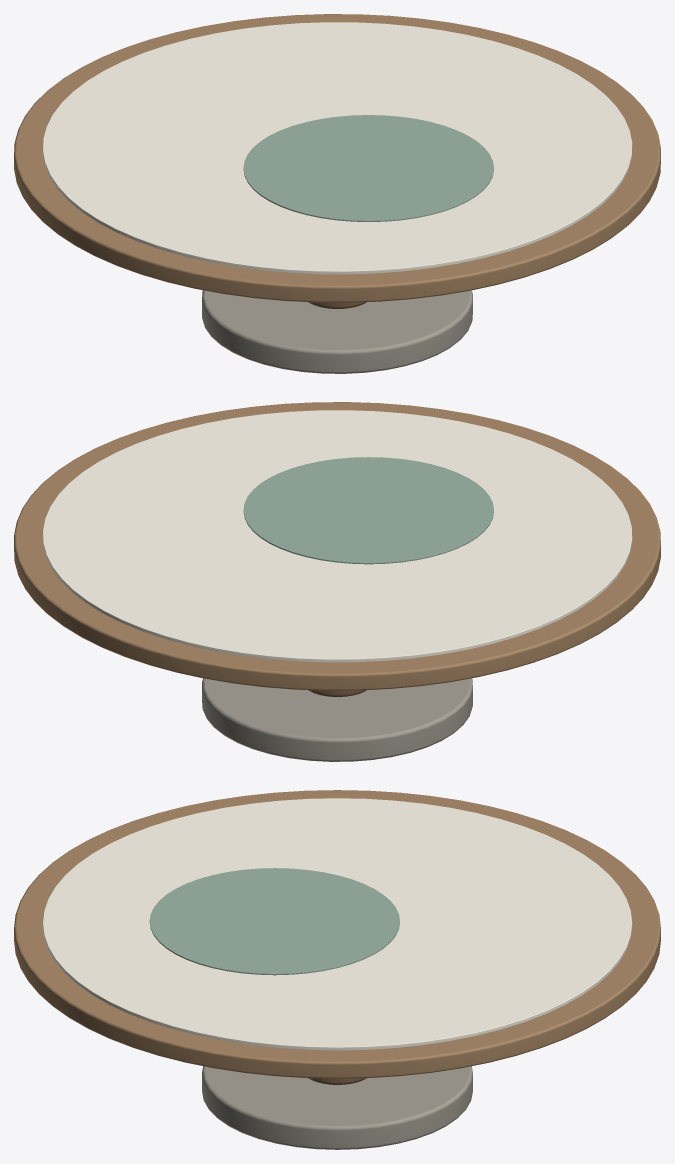
Rendered from meeting_table.glb.
3 views of the same model, one above another, from view 1: azimuth 30°, elevation 25°; view 2: azimuth 150°, elevation 25°; view 3: azimuth 270°, elevation 25° (orthographic).
Visible parts, largest first — view 1: Inset top surface, Rounded oak tabletop, Sage desk pad, Pedestal base; view 2: Inset top surface, Rounded oak tabletop, Sage desk pad, Pedestal base; view 3: Inset top surface, Rounded oak tabletop, Sage desk pad, Pedestal base.
Boxes of the visible parts, x1,y1,x2,y2 form: Inset top surface: (42, 22, 632, 274); Rounded oak tabletop: (14, 14, 660, 302); Sage desk pad: (243, 115, 493, 221); Pedestal base: (202, 290, 472, 373); Inset top surface: (42, 410, 632, 662); Rounded oak tabletop: (14, 402, 660, 690); Sage desk pad: (243, 457, 493, 564); Pedestal base: (202, 678, 472, 761); Inset top surface: (42, 798, 632, 1050); Rounded oak tabletop: (14, 790, 660, 1078); Sage desk pad: (149, 868, 399, 975); Pedestal base: (202, 1066, 472, 1149).
Size of the model in its own units: 1.24 by 0.3655 by 1.24.
